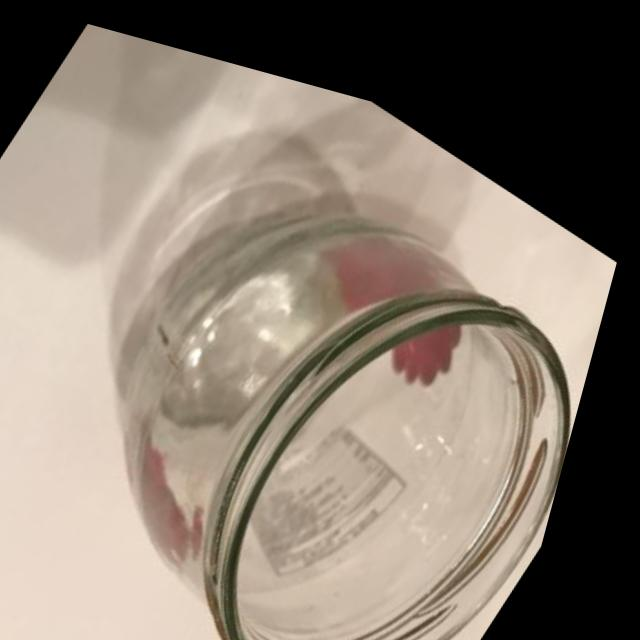glass: (0, 28, 639, 640)
